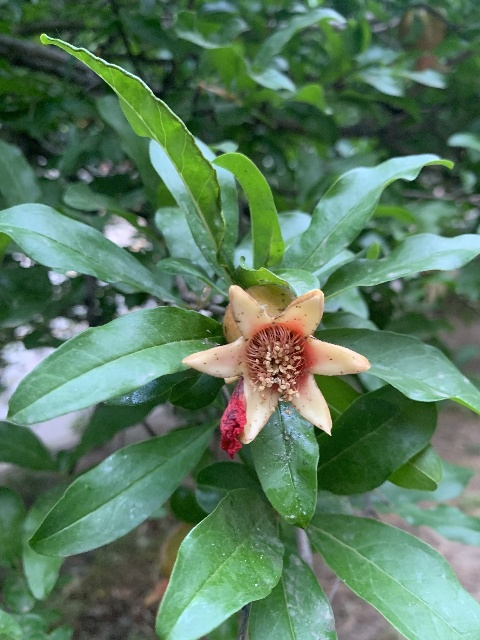early-fruit: (182, 284, 371, 459)
mid-growth: (398, 5, 451, 74)
